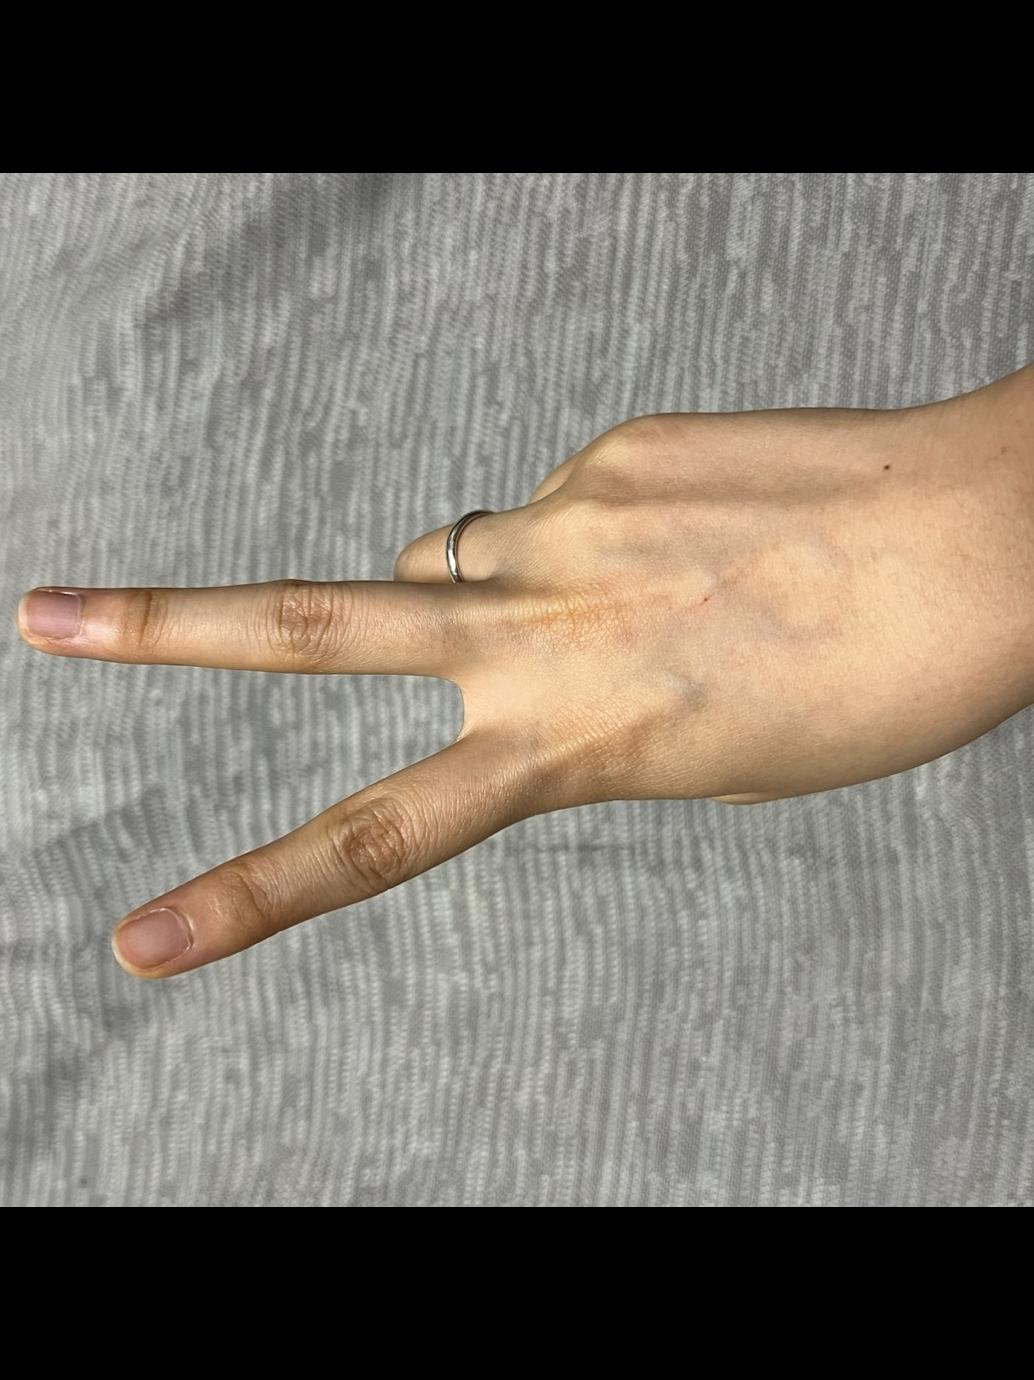v: (1, 381, 1034, 981)
